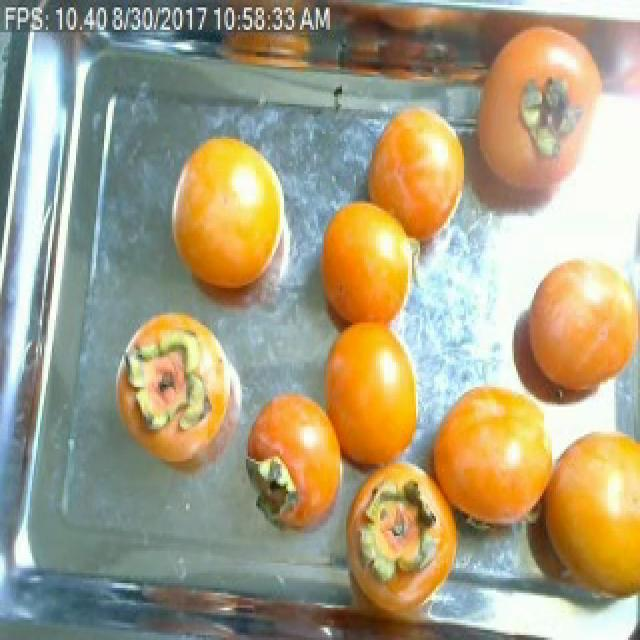Fruit: (416, 362, 572, 561), (498, 238, 640, 437), (160, 121, 298, 312), (306, 184, 432, 357), (354, 92, 478, 265), (110, 300, 240, 444), (236, 380, 346, 550)
